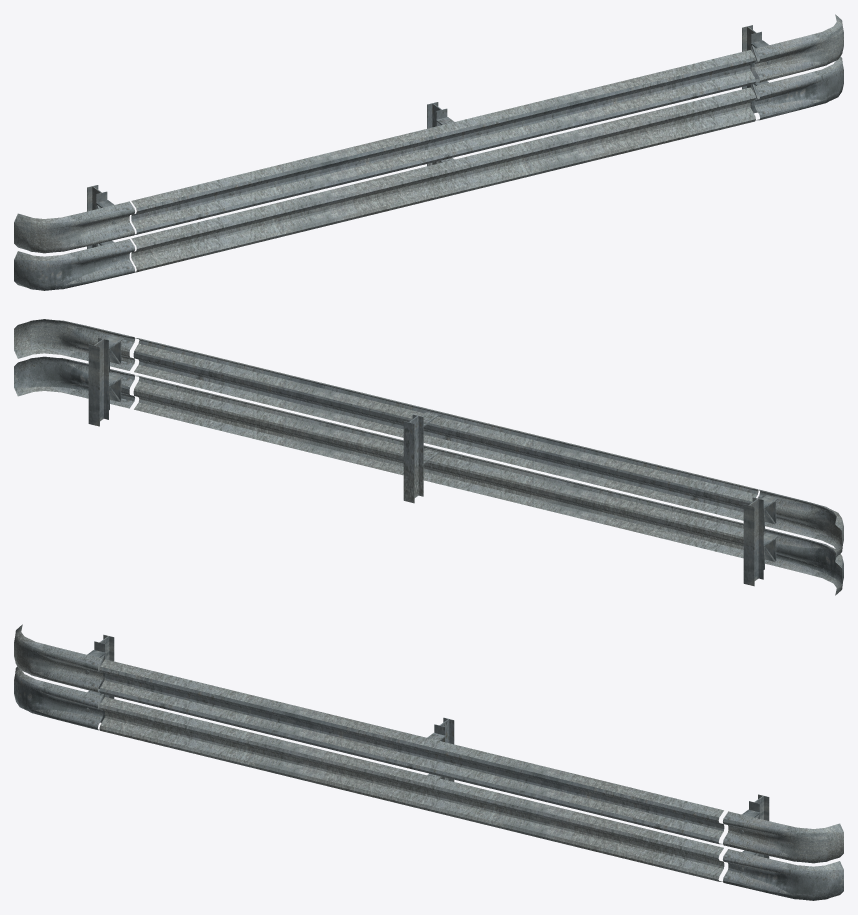
Rendered from newbarrier.FBX.
3 views of the same model, one above another, from view 1: azimuth 30°, elevation 25°; view 2: azimuth 150°, elevation 25°; view 3: azimuth 330°, elevation 25° (orthographic).
Visible parts, largest first — view 1: Barrier, Barrier Start, Barrier End; view 2: Barrier, Barrier End, Barrier Start; view 3: Barrier, Barrier End, Barrier Start.
Part boxes in pixels (x1,y1,x2,y2): Barrier: (131,50,755,272); Barrier Start: (14,185,134,290); Barrier End: (742,14,843,120); Barrier: (133,338,758,558); Barrier End: (14,319,134,426); Barrier Start: (743,489,843,595); Barrier: (99,659,724,881); Barrier End: (723,794,843,900); Barrier Start: (14,624,114,730).
Size of the model in its own units: 30035 by 2756 by 1693.
Materials: 1 (1 with a texture image).
